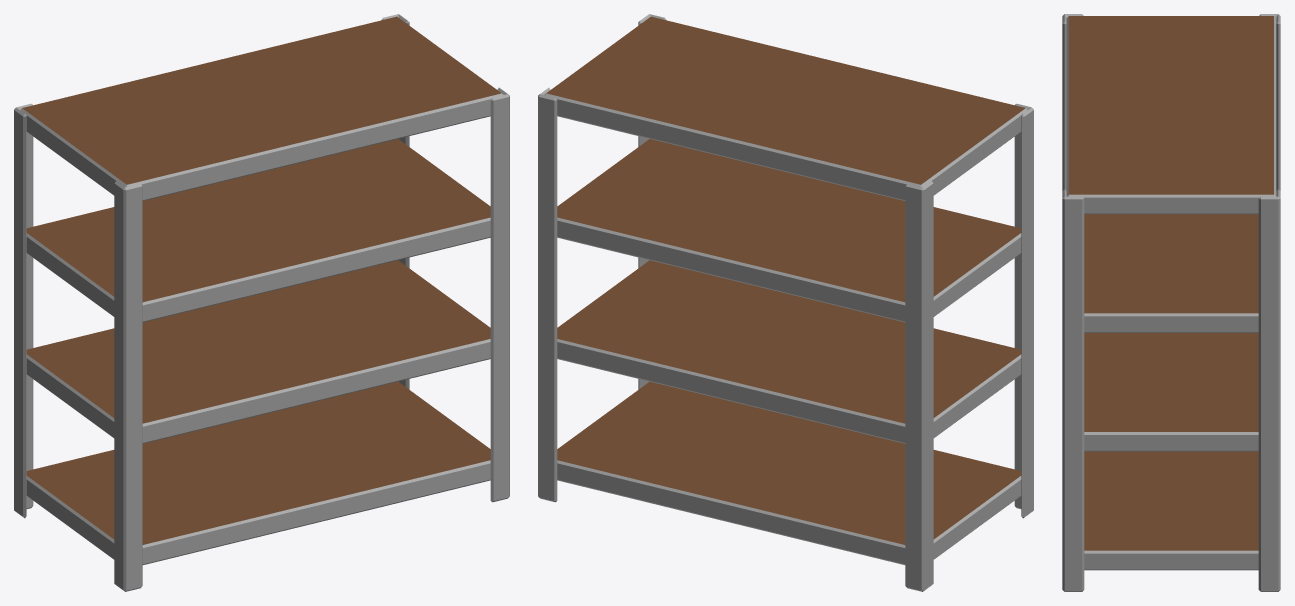
The model's file is tmp_shelf.fbx.
3 views of the same model, side by side, from view 1: azimuth 30°, elevation 25°; view 2: azimuth 150°, elevation 25°; view 3: azimuth 270°, elevation 25° (orthographic). The views are drawn at different scales.
Visible parts, largest first — view 1: shelf.003; view 2: shelf.003; view 3: shelf.003.
Part boxes in pixels (x1,y1,x2,y2): shelf.003: (14,14,509,591); shelf.003: (538,14,1033,591); shelf.003: (1062,14,1280,591).
Size of the model in its own units: 200 by 200 by 100.
